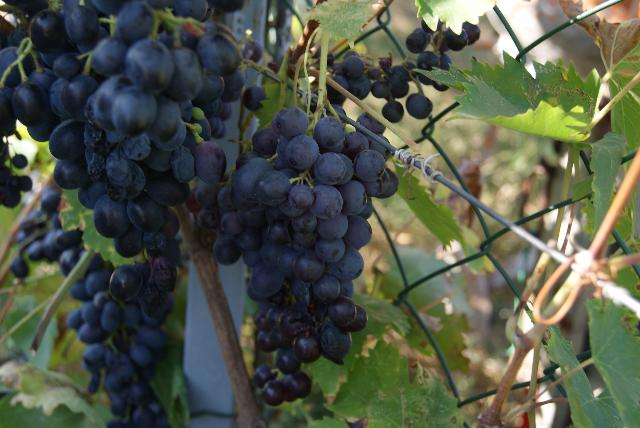grapes: (196, 105, 399, 406), (0, 0, 240, 240), (66, 256, 178, 428)
